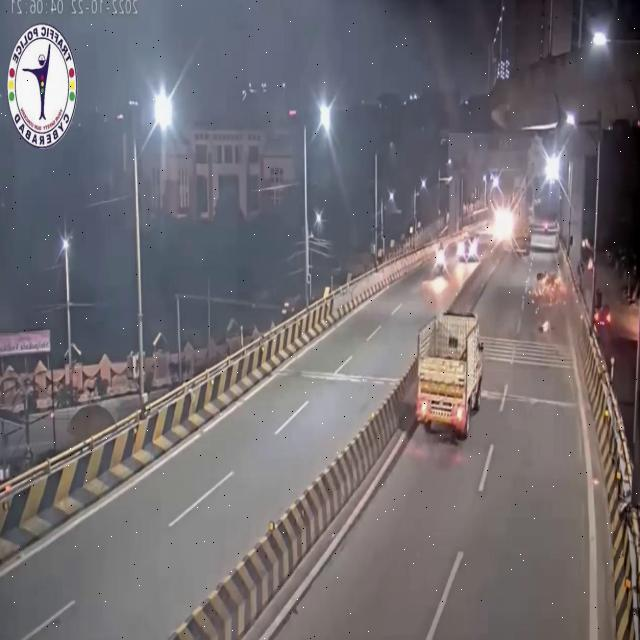accident: (528, 262, 572, 308)
